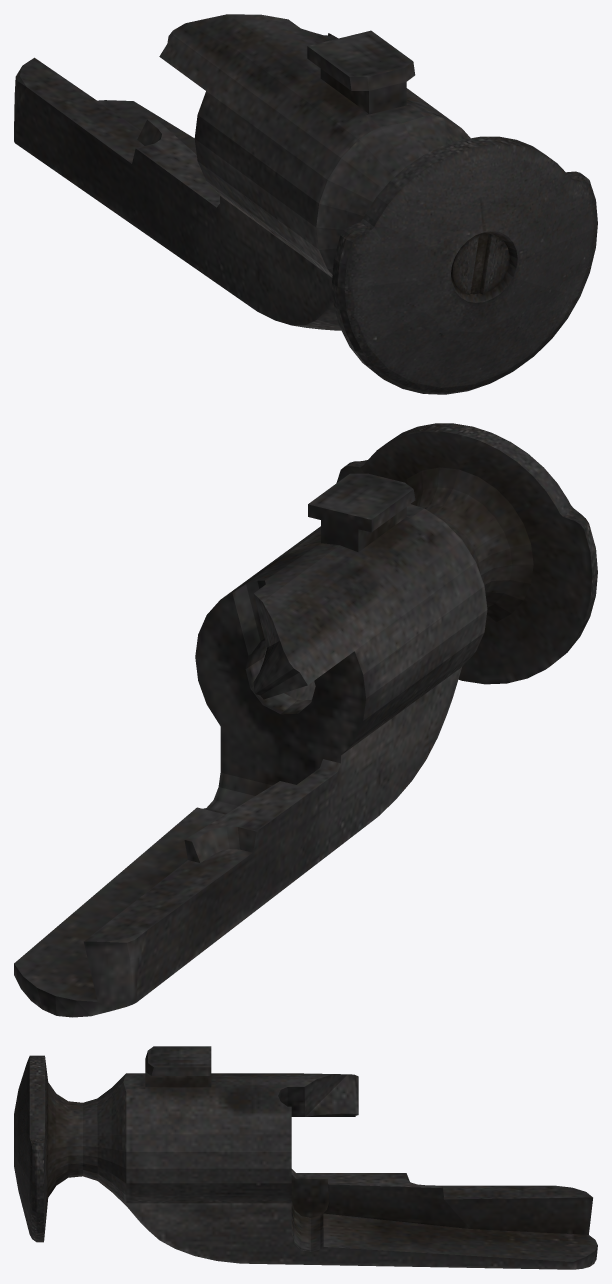
3 renders of one model, top to bottom at view 1: azimuth 30°, elevation 25°; view 2: azimuth 150°, elevation 25°; view 3: azimuth 270°, elevation 25°, orthographic. The views are drawn at different scales.
Visible parts, largest first — view 1: TW_5bfd297f0db834001a669119_PZ_Import; view 2: TW_5bfd297f0db834001a669119_PZ_Import; view 3: TW_5bfd297f0db834001a669119_PZ_Import.
Part boxes in pixels (box(x1,y1,x2,y2)): TW_5bfd297f0db834001a669119_PZ_Import: box(14, 14, 597, 394); TW_5bfd297f0db834001a669119_PZ_Import: box(14, 423, 597, 1017); TW_5bfd297f0db834001a669119_PZ_Import: box(14, 1046, 597, 1269).
Size of the model in its own units: 0.0147 by 0.0419 by 0.016.
Materials: 1 (1 with a texture image).
